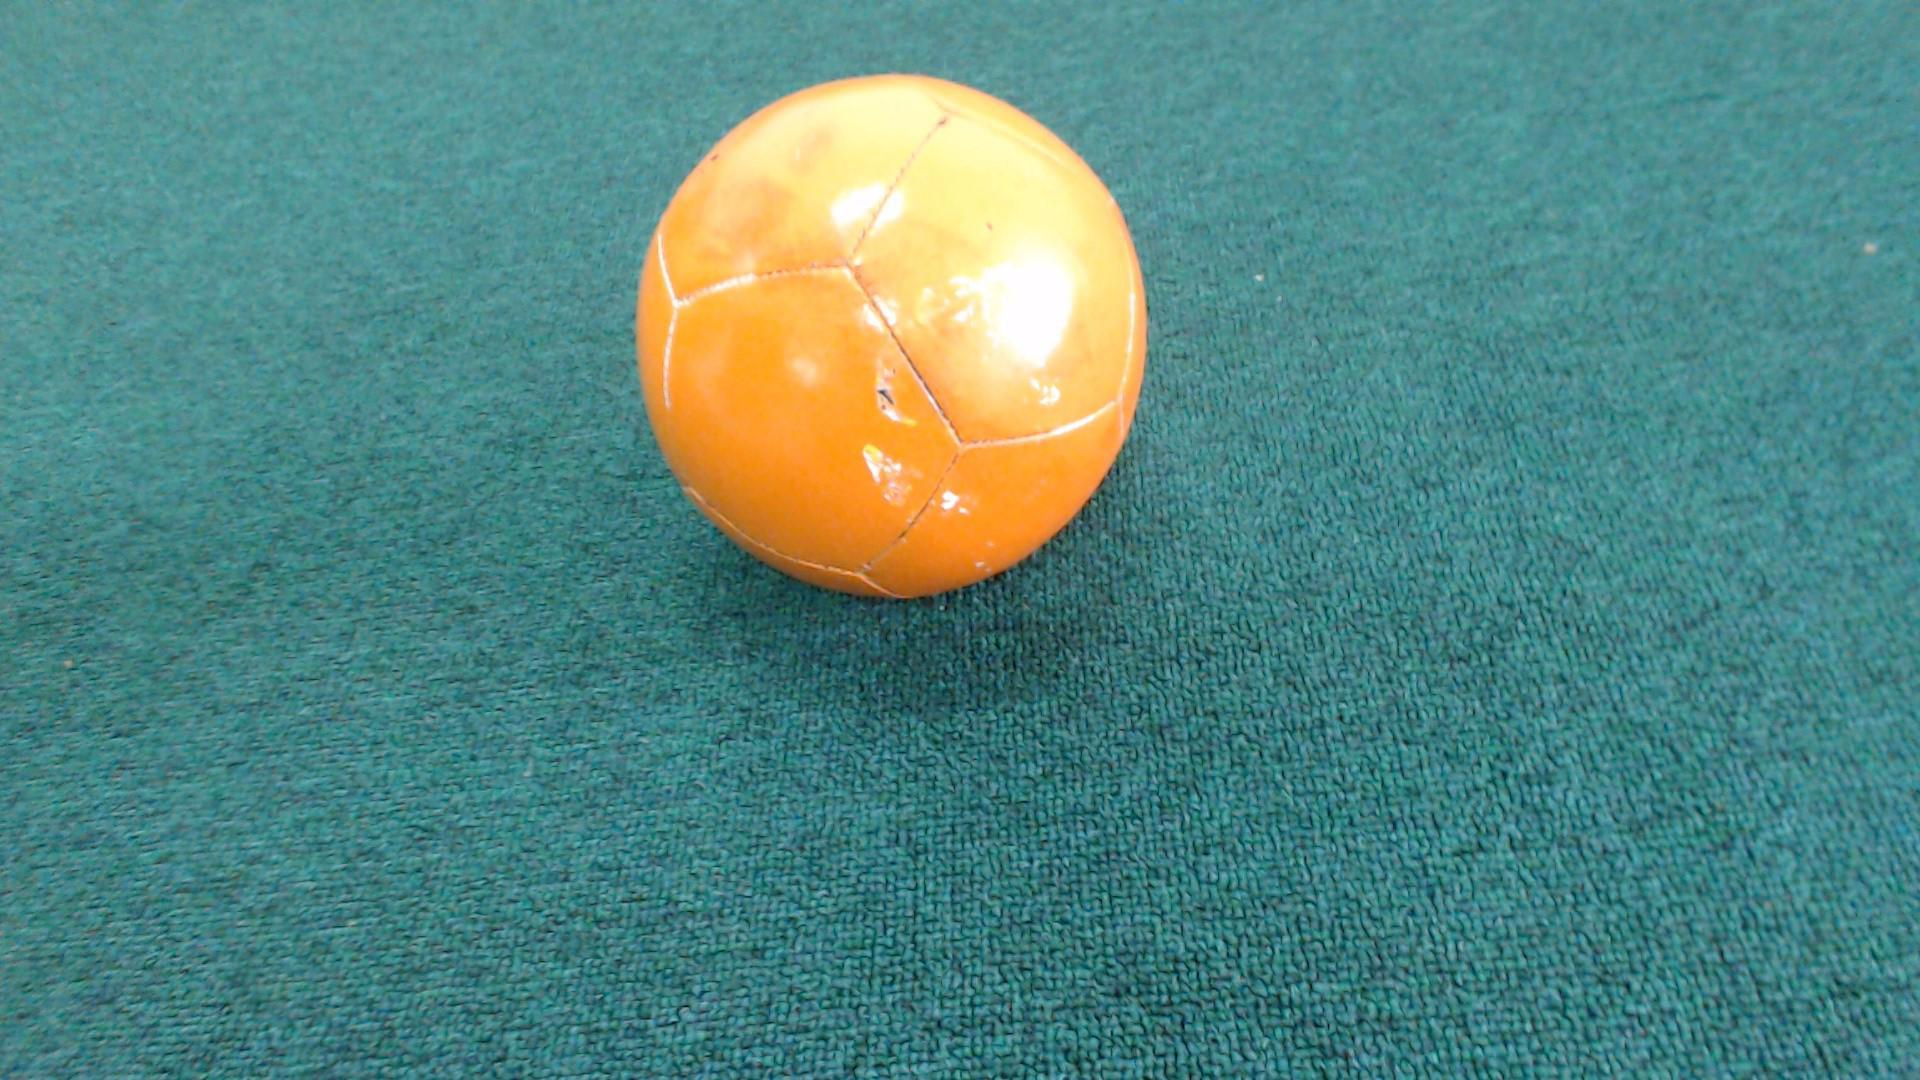bola: (608, 55, 1158, 611)
